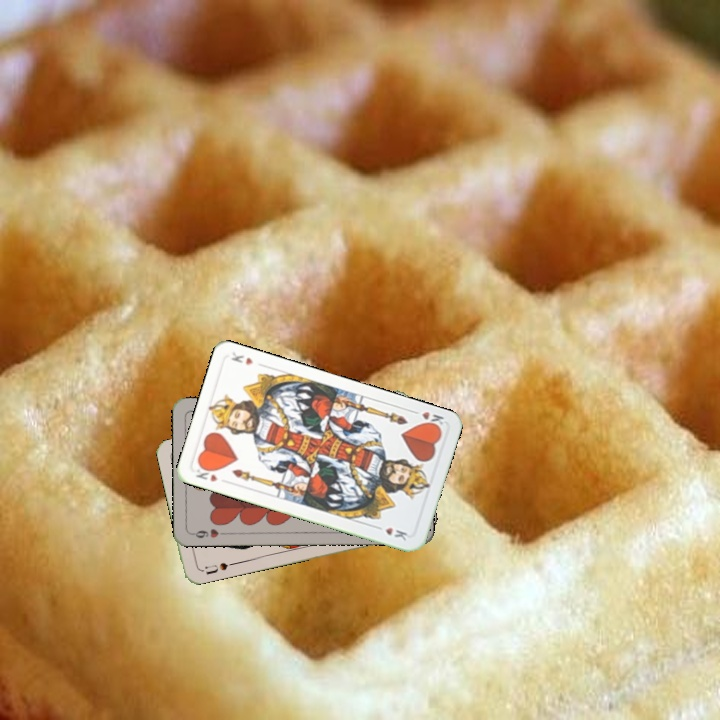H9: (188, 525, 229, 541)
HK: (417, 407, 446, 431), (192, 462, 220, 485)
SU: (201, 558, 237, 577)
